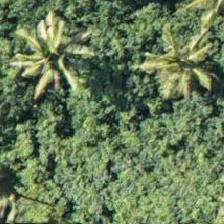coconut_tree: (132, 25, 222, 115), (6, 9, 96, 99)
